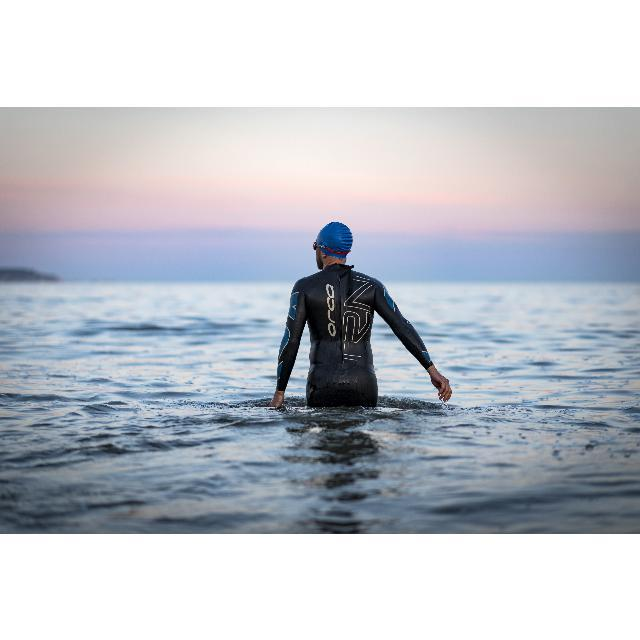human: (265, 219, 457, 417)
